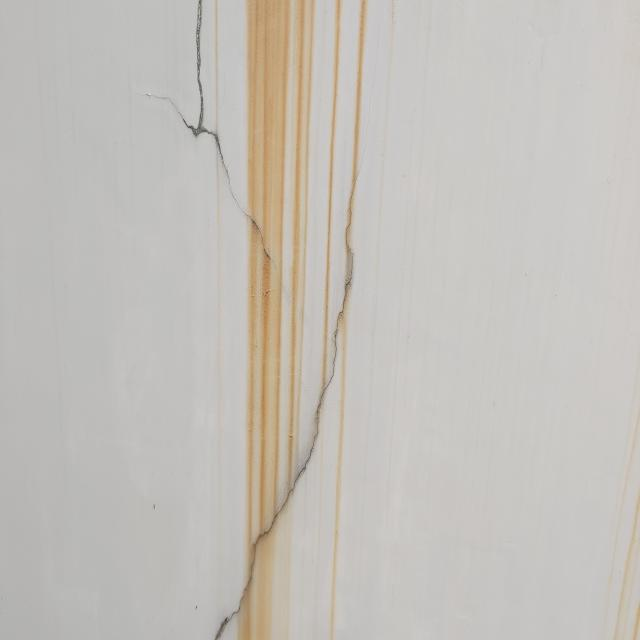Crack: (167, 0, 269, 262), (332, 61, 377, 339), (274, 354, 341, 520), (207, 509, 268, 640)
